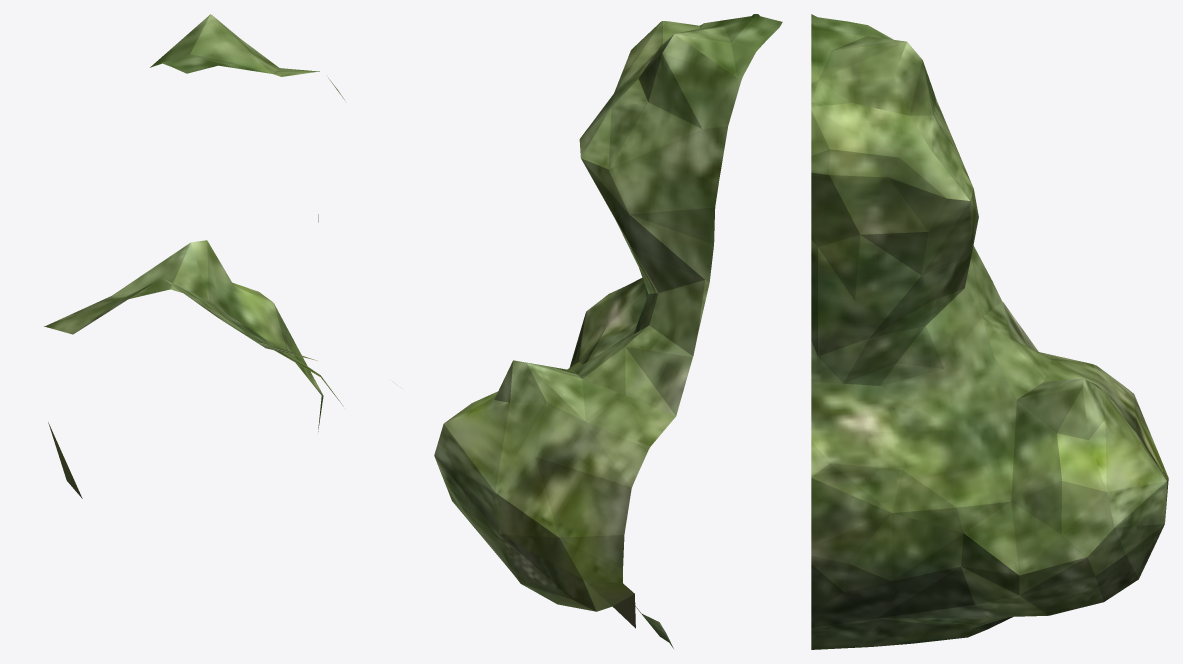
The picture shows the model from 3 angles, left to right: view 1: azimuth 30°, elevation 25°; view 2: azimuth 150°, elevation 25°; view 3: azimuth 270°, elevation 25°; orthographic projection. The views are drawn at different scales.
Bounding box in the file's own units: 0.6535 × 1.58 × 0.8651.
Materials: 1 (1 with a texture image).
